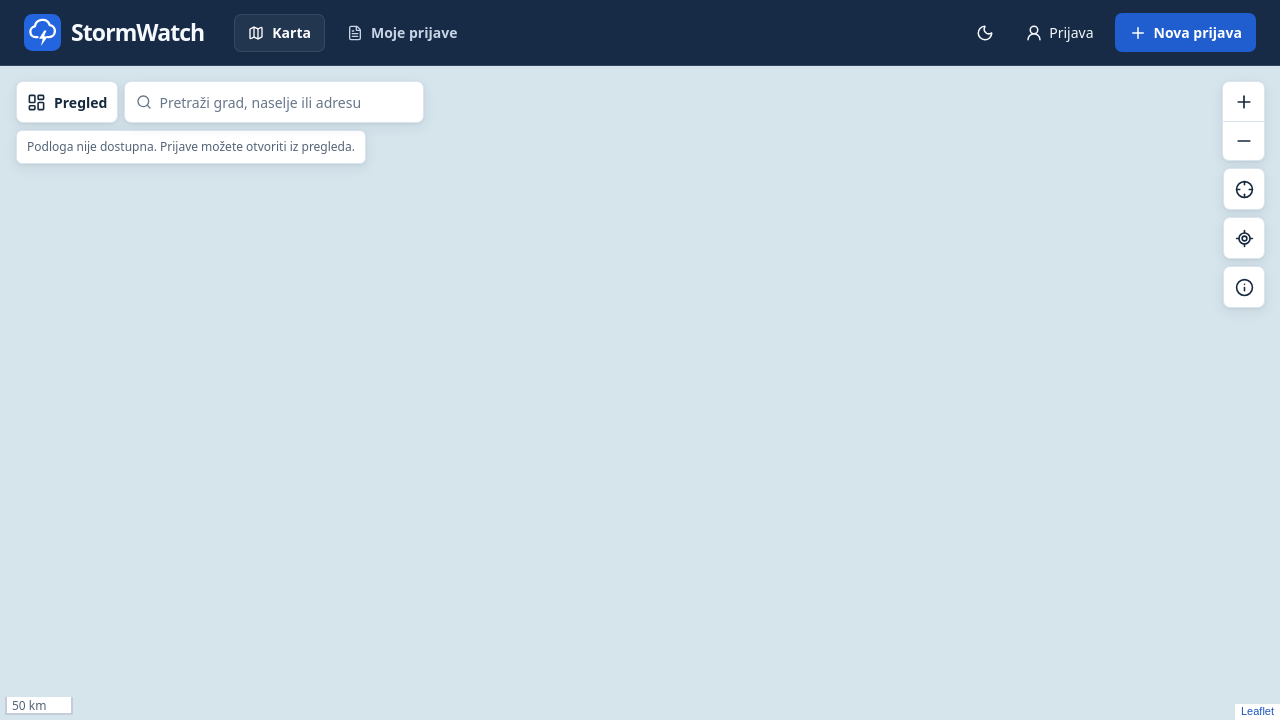
Test: karta, pojedinačni markeri i paneli › legenda se otvara, objašnjava oznake i može se zatvoriti
The width and height of the screenshot is (1280, 720).
Expected: the element "Legenda karte" is not shown
What coordinates should you click on to do the following:
click the button named "Legenda"
I would click on:
 (1244, 287)
Its box is [1223,266,1265,308].
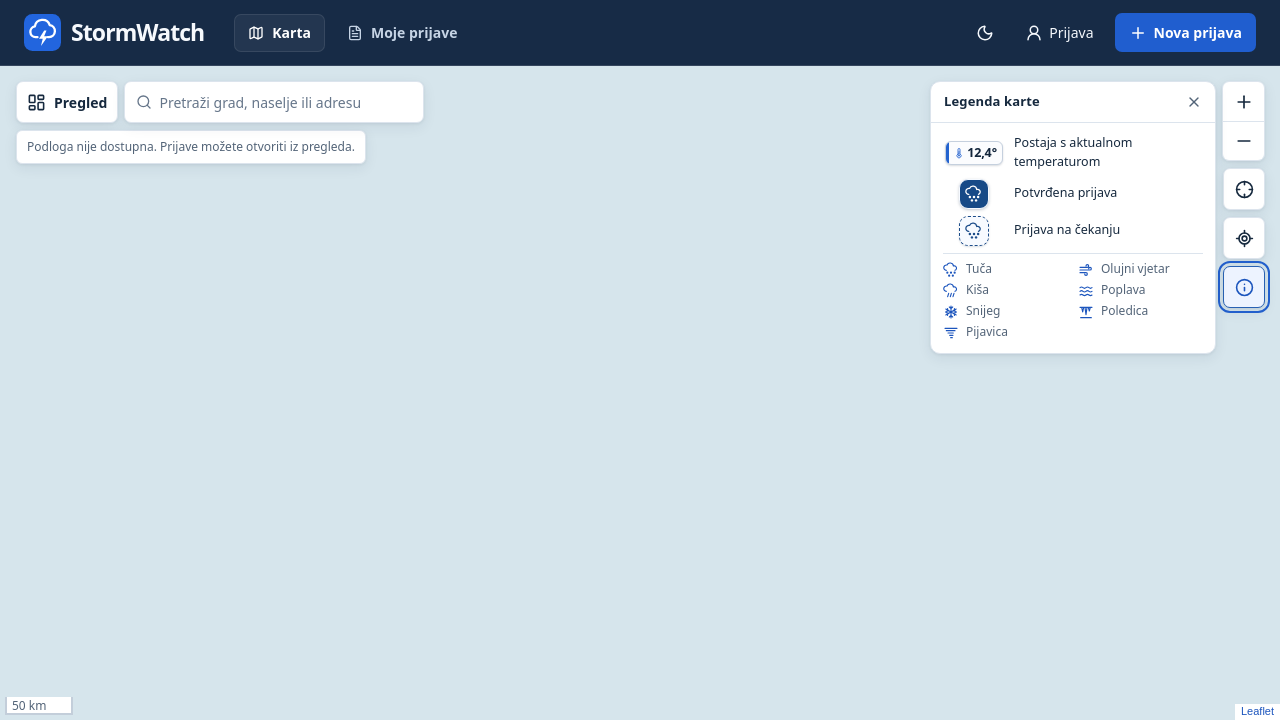
Result: the text "Potvrđena prijava" is shown at [959,178,1117,208]
Result: the text "Prijava na čekanju" is shown at [959,216,1120,246]
What coordinates should you click on to do the following:
click the button named "Zatvori izbornik"
I would click on:
 (1194, 102)
Its box is [1178,86,1210,118].
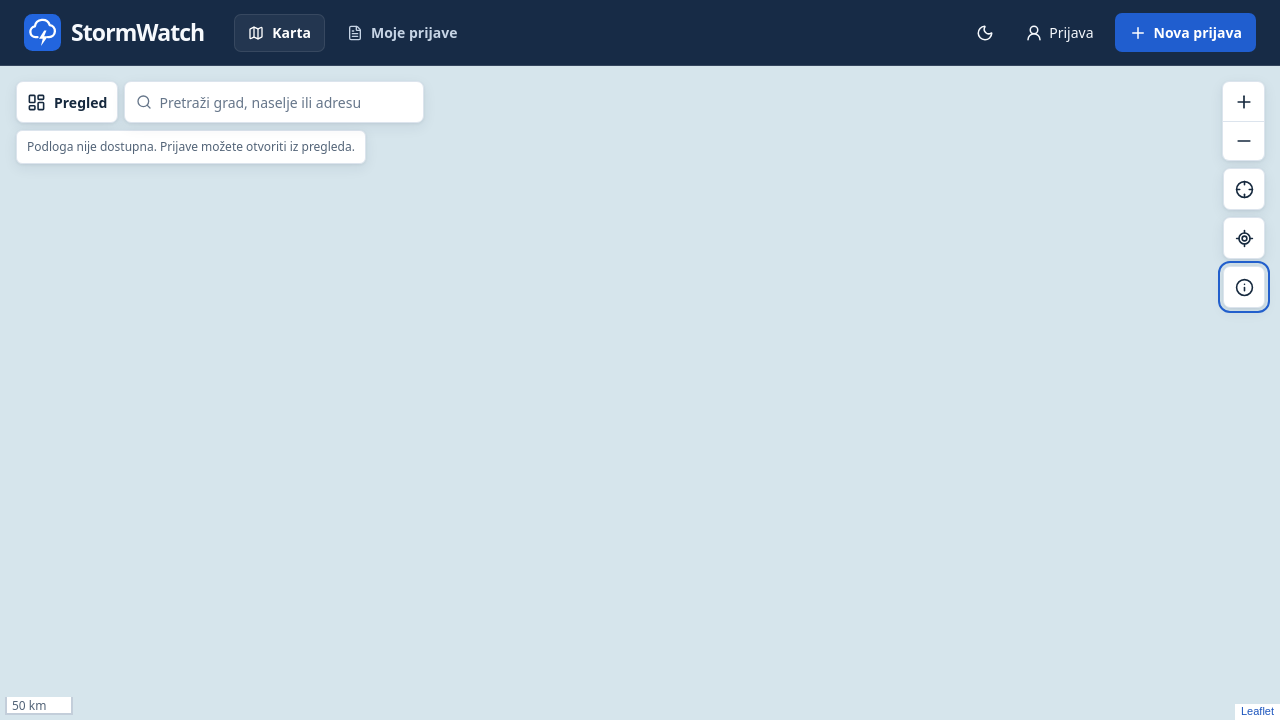
Result: the text "Legenda karte" is gone
